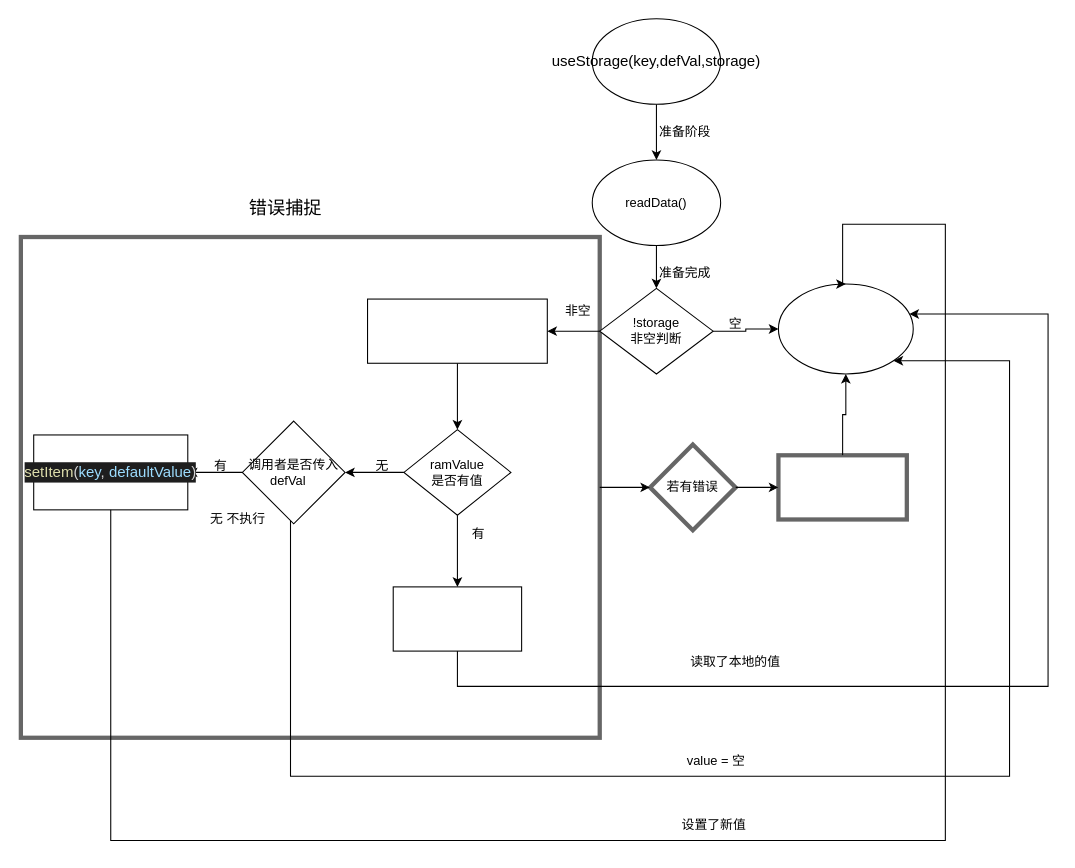
Some shapes in this 1075 by 868 pixel diagram are drawn without their labels. Here are the shapes that lost their labels. From the top down, the centre of each, then its label:
(456,330): rawValue = getItem ( key )
(845,328): 结束 return [value,setDate]
(842,487): 打印错误
(457,618): read ( rawValue )
